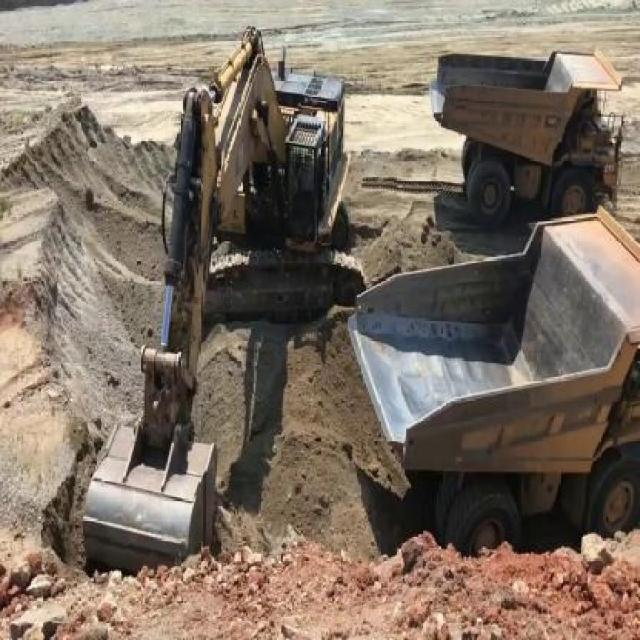Dump Truck: (348, 207, 640, 558), (428, 36, 623, 219)
Excavator: (76, 21, 369, 577)
